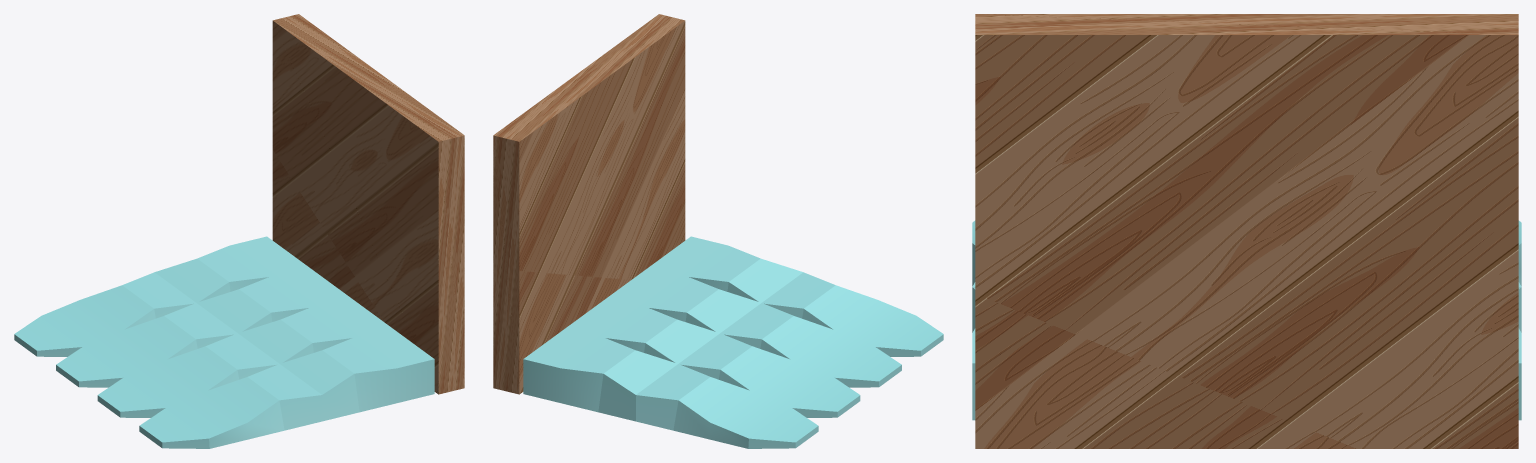
The model's file is prop 1.fbx.
The picture shows the model from 3 angles, left to right: view 1: azimuth 30°, elevation 25°; view 2: azimuth 150°, elevation 25°; view 3: azimuth 270°, elevation 25°; orthographic projection. The views are drawn at different scales.
Parts seen in each view (by area): view 1: Cube.009, Cube.005, Cube.008, Cube.006, Cube.007; view 2: Cube.009, Cube.008, Cube.007, Cube.005, Cube.006; view 3: Cube.009, Cube.005, Cube.008.
Boxes of the visible parts, bbox=[...] form: Cube.009: bbox=[272, 14, 464, 394]; Cube.005: bbox=[139, 328, 434, 448]; Cube.008: bbox=[14, 236, 308, 356]; Cube.006: bbox=[97, 297, 392, 417]; Cube.007: bbox=[56, 267, 349, 387]; Cube.009: bbox=[493, 14, 685, 394]; Cube.008: bbox=[523, 328, 818, 448]; Cube.007: bbox=[566, 297, 860, 417]; Cube.005: bbox=[649, 236, 943, 356]; Cube.006: bbox=[608, 267, 901, 387]; Cube.009: bbox=[975, 14, 1518, 448]; Cube.005: bbox=[972, 220, 975, 420]; Cube.008: bbox=[1518, 220, 1521, 420].
Size of the model in its own units: 682 by 561 by 675.
2 materials, 2 textured.
